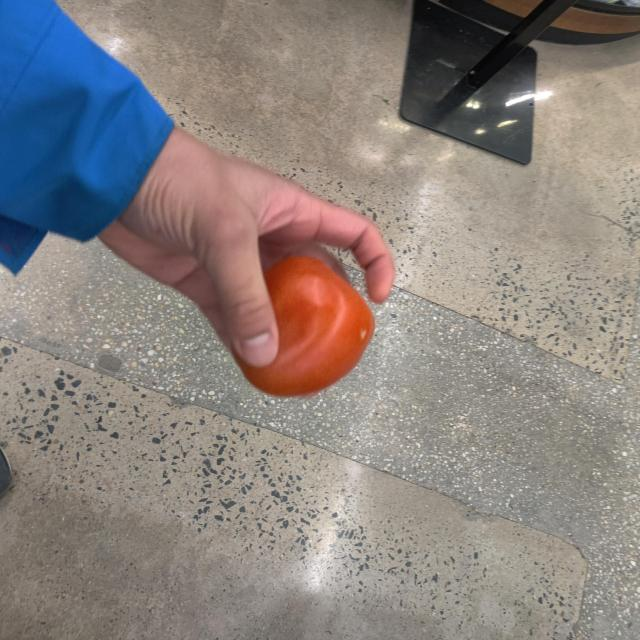Tomatoes: (237, 258, 374, 394)
